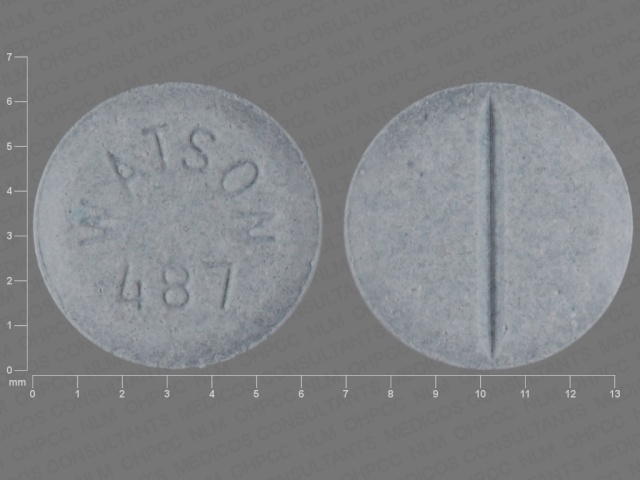4: (116, 262, 147, 315)
7: (202, 260, 234, 314)
8: (155, 261, 195, 314)
A: (98, 149, 149, 201)
N: (229, 207, 283, 247)
O: (216, 156, 261, 200)
S: (175, 126, 219, 179)
T: (133, 120, 175, 174)
W: (71, 197, 121, 258)
|: (478, 93, 508, 362)
